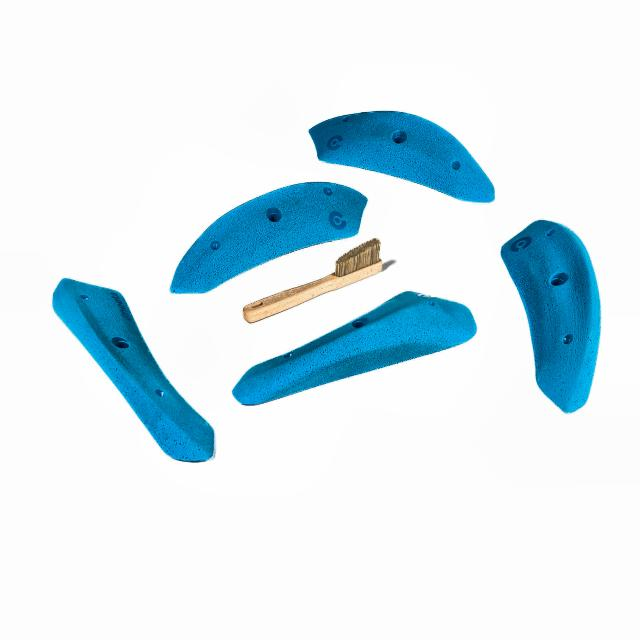Hold: (36, 253, 224, 481), (221, 266, 486, 421), (166, 168, 383, 307), (487, 201, 616, 434), (300, 92, 509, 217)
